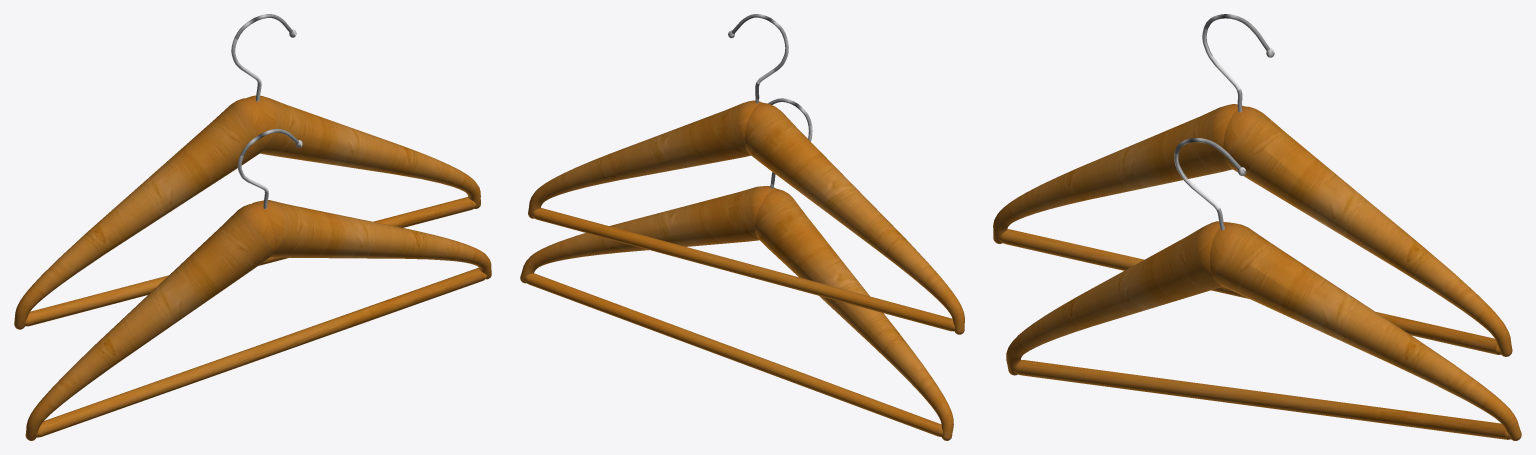
Rendered from ropa_hanger_pile.glb.
3 views of the same model, side by side, from view 1: azimuth 30°, elevation 25°; view 2: azimuth 150°, elevation 25°; view 3: azimuth 330°, elevation 25° (orthographic). The views are drawn at different scales.
Visible parts, largest first — view 1: Object_2; view 2: Object_2; view 3: Object_2.
Part boxes in pixels (x1,y1,x2,y2): Object_2: [14, 14, 491, 440]; Object_2: [520, 14, 964, 440]; Object_2: [993, 14, 1521, 440].
Size of the model in its own units: 0.45 by 0.351 by 0.0656.
Materials: 5 (5 with a texture image).
